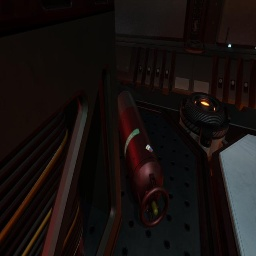NitrogenTank ,: (118, 91, 169, 228)
